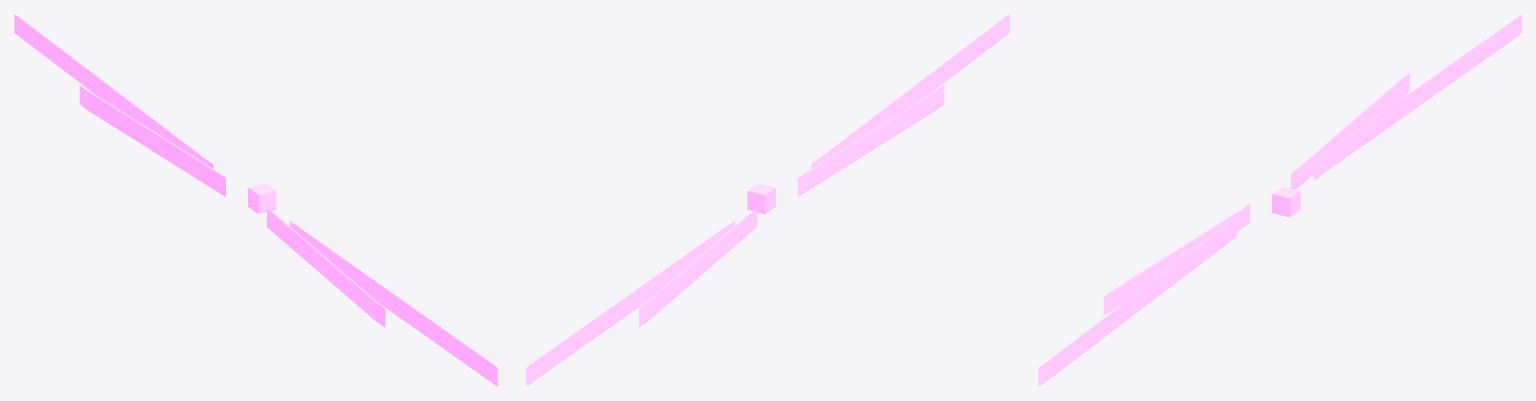
The model's file is SM_Keeper_OverlordEcho_Cracks.fbx.
The picture shows the model from 3 angles, left to right: view 1: azimuth 30°, elevation 25°; view 2: azimuth 150°, elevation 25°; view 3: azimuth 330°, elevation 25°; orthographic projection.
Visible parts, largest first — view 1: SM_Keeper_OverlordEcho_Cracks; view 2: SM_Keeper_OverlordEcho_Cracks; view 3: SM_Keeper_OverlordEcho_Cracks.
Boxes of the visible parts, x1,y1,x2,y2 form: SM_Keeper_OverlordEcho_Cracks: (14,14,497,386); SM_Keeper_OverlordEcho_Cracks: (526,14,1009,386); SM_Keeper_OverlordEcho_Cracks: (1038,14,1521,386).
Bounding box in the file's own units: 2.19 × 1 × 45.96.
